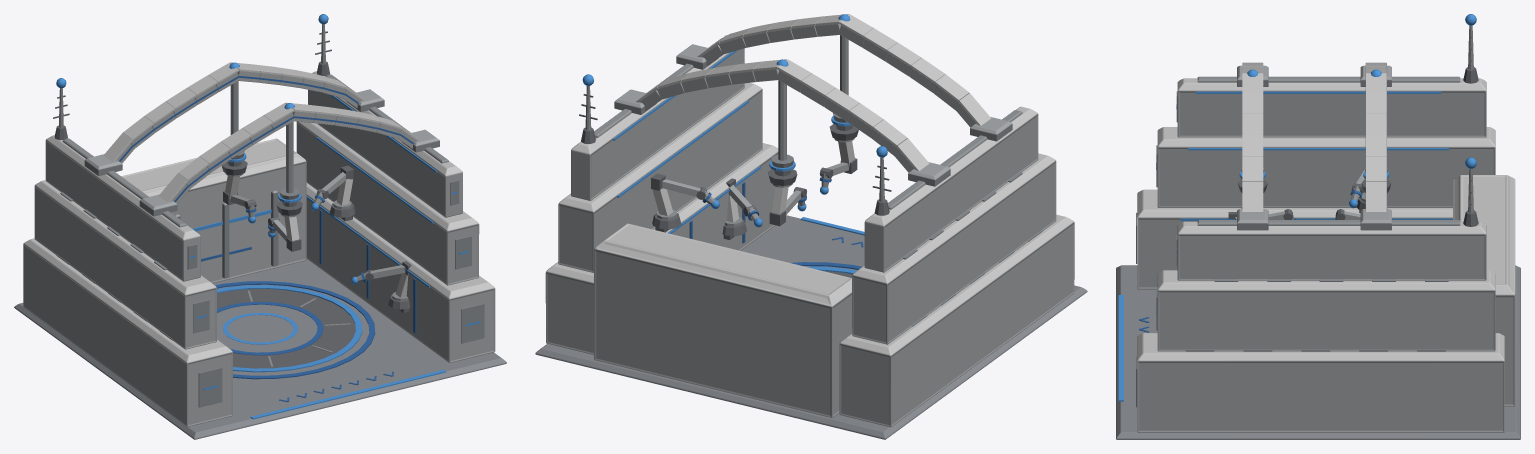
File: lattice_experimental_gantry.glb
3 views of the same model, side by side, from view 1: azimuth 30°, elevation 25°; view 2: azimuth 150°, elevation 25°; view 3: azimuth 270°, elevation 25° (orthographic). The views are drawn at different scales.
Parts seen in each view (by area): view 1: Body; view 2: Body; view 3: Body.
Part boxes in pixels (x1,y1,x2,y2): Body: (14, 14, 506, 439); Body: (535, 14, 1087, 439); Body: (1116, 14, 1520, 439).
Bounding box in the file's own units: 30.8 × 23.9 × 30.8.
